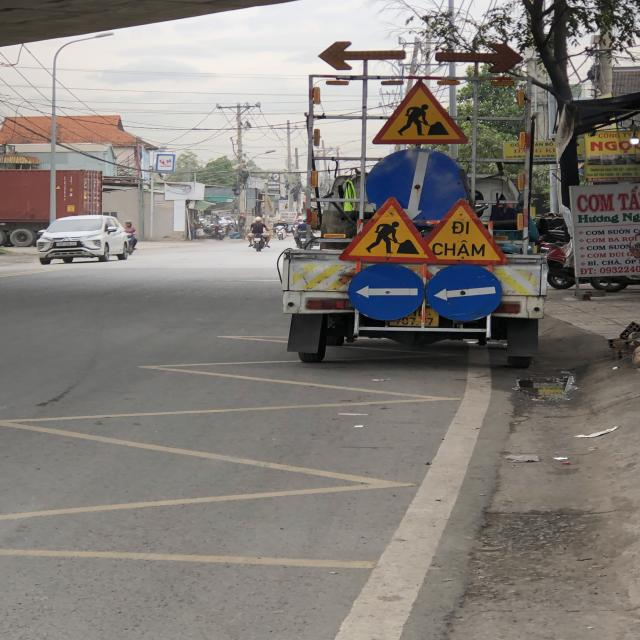Bien bao cong truong: (370, 78, 474, 148), (337, 195, 438, 266)
